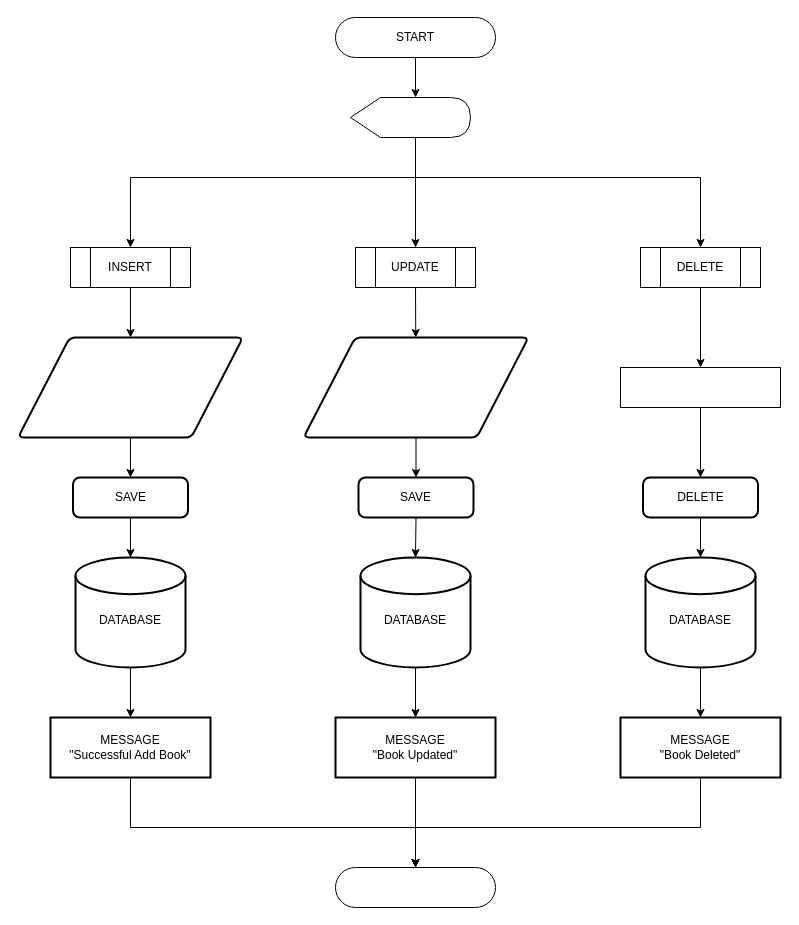
Some shapes in this 799 by 925 pixel diagram are drawn without their labels. Each missing label, with the centre of its shape:
"BOOK'S TITLE BOOK'S AUTHOR PUBLISED DESCTIPTION" goes at pixel 130 387.
"EDIT BOOK'S TITLE EDIT BOOK'S AUTHOR EDIT PUBLICATION YEAR EDIT DESCRIPTION" goes at pixel 415 387.
"END" goes at pixel 415 887.
"READ" goes at pixel 410 117.
"SELECT BOOK'S TITLE" goes at pixel 700 387.
